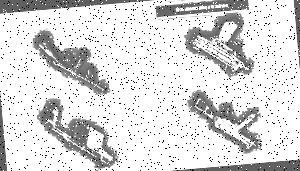SMG: (41, 97, 119, 171), (36, 28, 110, 99), (190, 88, 262, 155), (188, 13, 255, 78)
